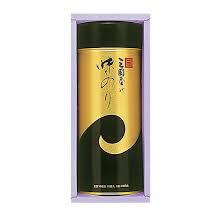beer: (76, 20, 143, 196)
